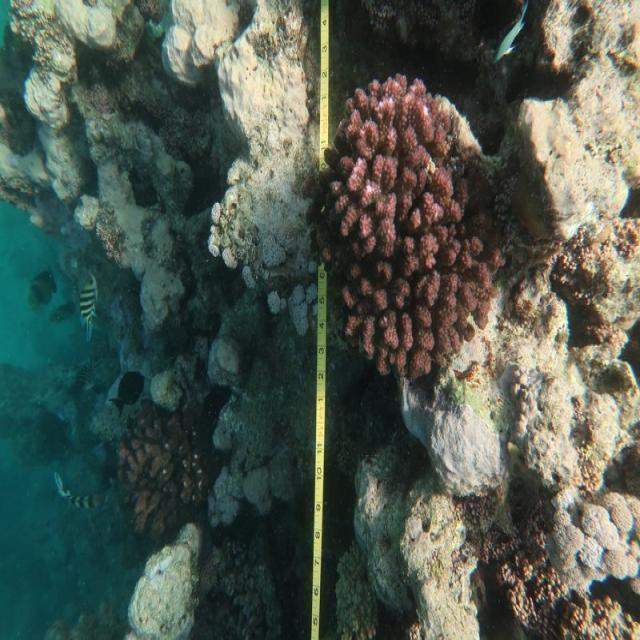Bleached Coral: (543, 462, 640, 595)
Healthy Coral: (323, 79, 505, 394), (108, 408, 207, 545)
